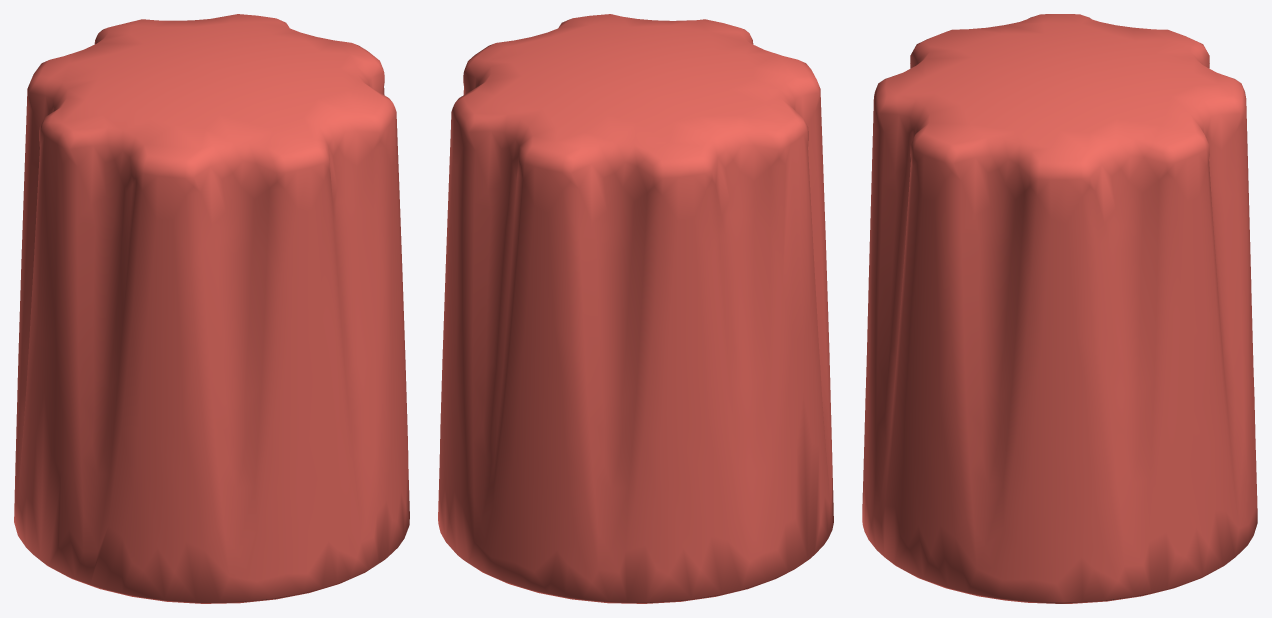
Rendered from knob_davies.glb.
The picture shows the model from 3 angles, left to right: view 1: azimuth 30°, elevation 25°; view 2: azimuth 150°, elevation 25°; view 3: azimuth 270°, elevation 25°; orthographic projection.
Visible parts, largest first — view 1: davies; view 2: davies; view 3: davies.
Part boxes in pixels (left/top/right/bottom): davies: left=14, top=14, right=409, bottom=603; davies: left=438, top=14, right=833, bottom=603; davies: left=862, top=14, right=1257, bottom=603.
Bounding box in the file's own units: 12.69 × 16 × 12.69.
